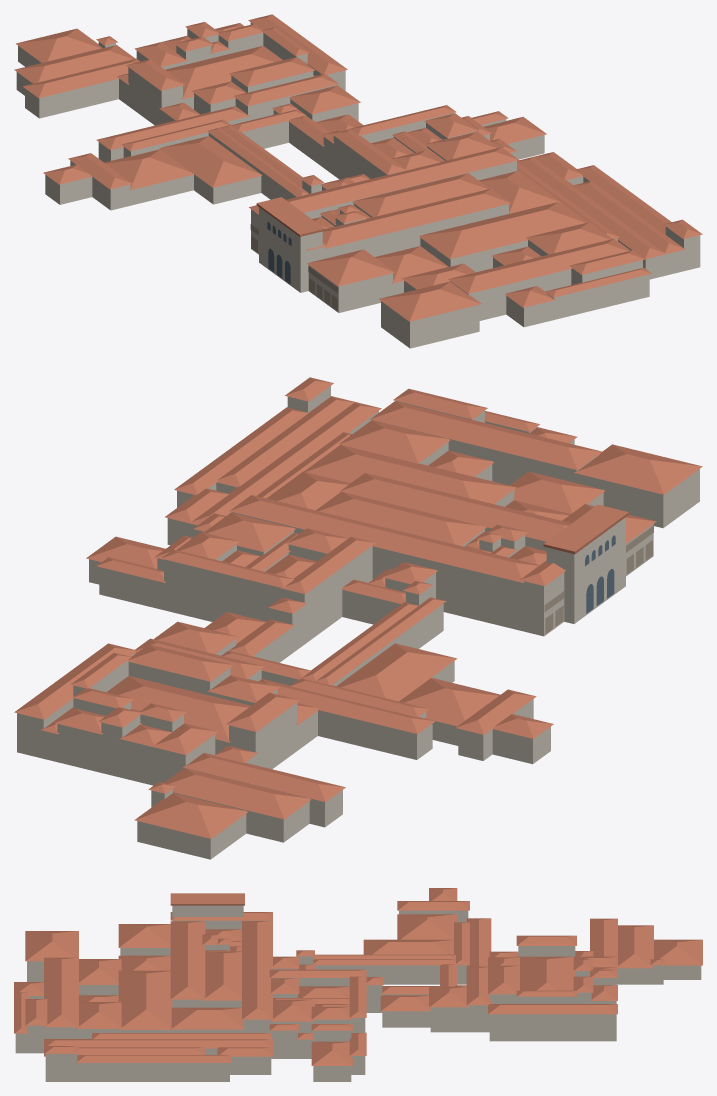
File: phx-heard-museum.glb
The picture shows the model from 3 angles, top to bottom: view 1: azimuth 30°, elevation 25°; view 2: azimuth 150°, elevation 25°; view 3: azimuth 270°, elevation 25°; orthographic projection. The views are drawn at different scales.
Visible parts, largest first — view 1: Heard Museum; view 2: Heard Museum; view 3: Heard Museum.
Boxes of the visible parts, x1,y1,x2,y2 form: Heard Museum: (14,14,702,348); Heard Museum: (14,377,702,859); Heard Museum: (14,888,702,1081).
Size of the model in its own units: 105 by 14.15 by 174.
